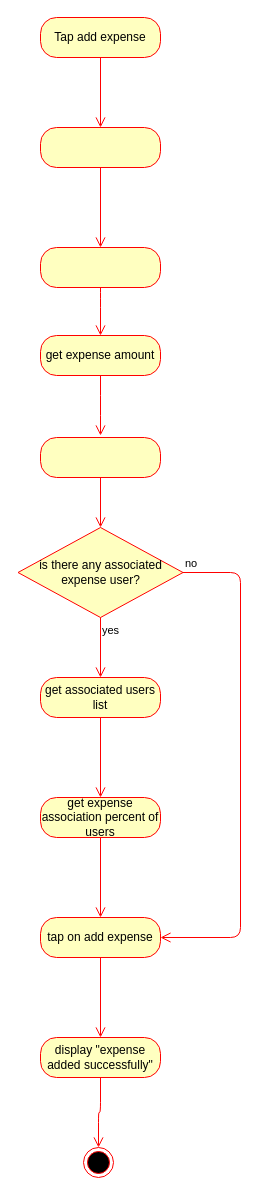
Some shapes in this 268 by 1195 pixel diagram are drawn without their labels. Here are the shapes that lost their labels. From the top down, the box of each, then its label:
(40, 126, 160, 168): get category of expense
(40, 246, 160, 288): get expense source financial account
(40, 436, 160, 478): get expense dest financial account
